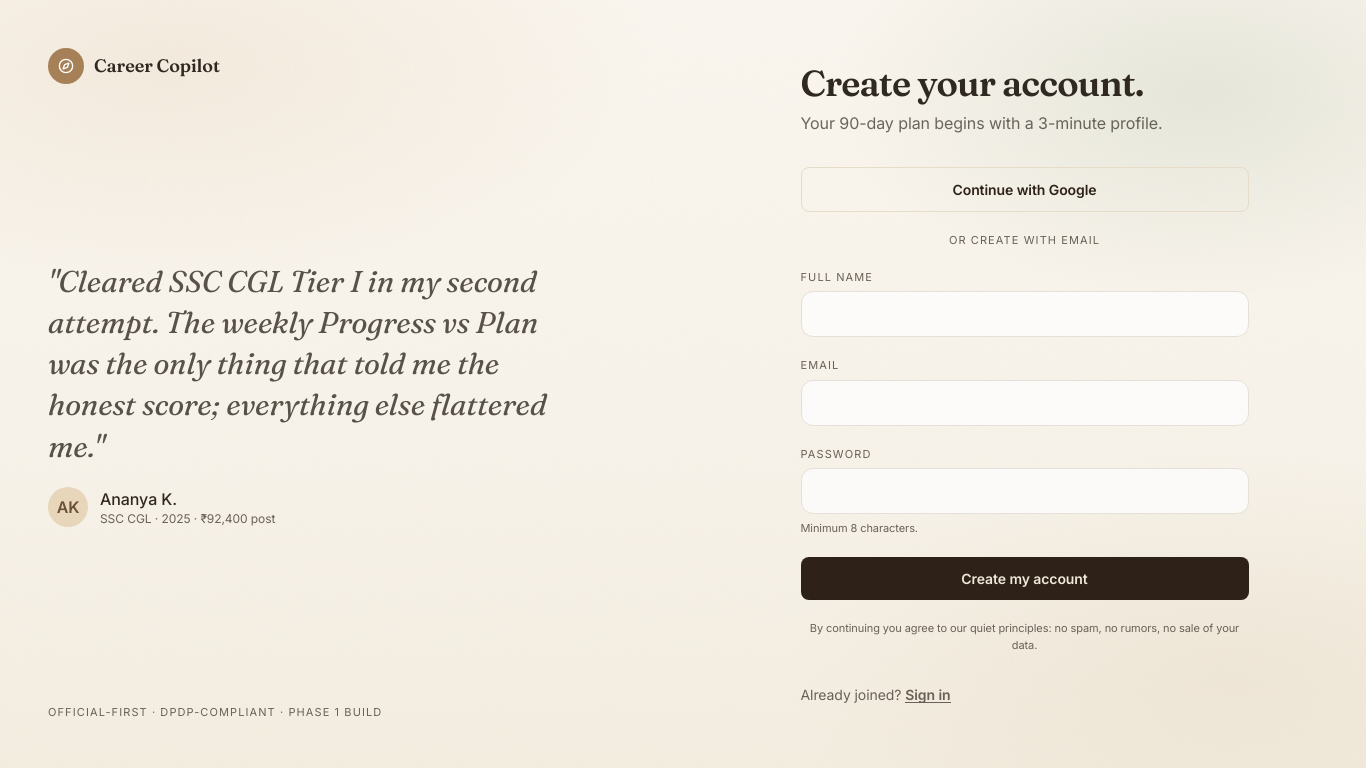
Scenario: shows check-email panel when register reports needsEmailConfirmation
Type "Alice" into the field with test id "signup-name". click: {"x": 1024, "y": 314}
box: [800,291,1248,337]
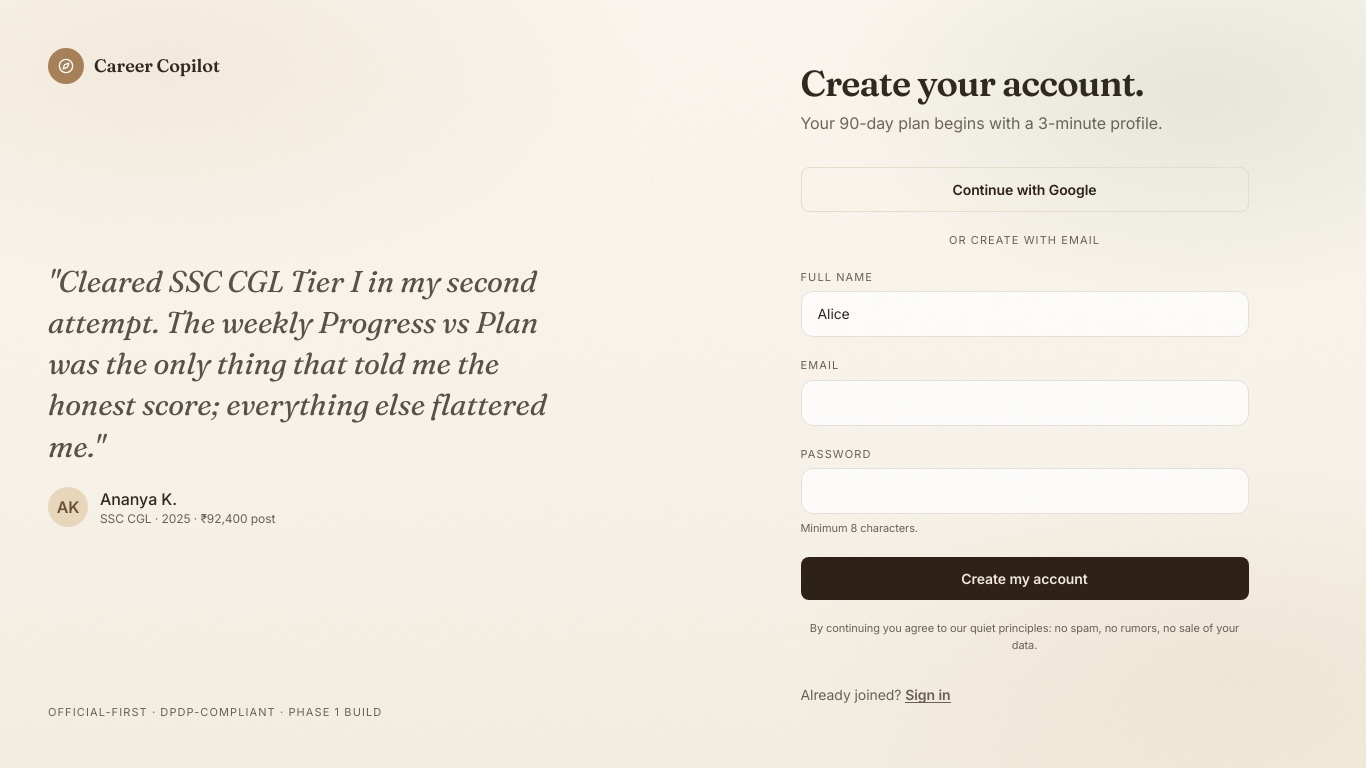
Type "a@x.com" into the field with test id "signup-email". click: {"x": 1024, "y": 403}
box: [800,380,1248,426]
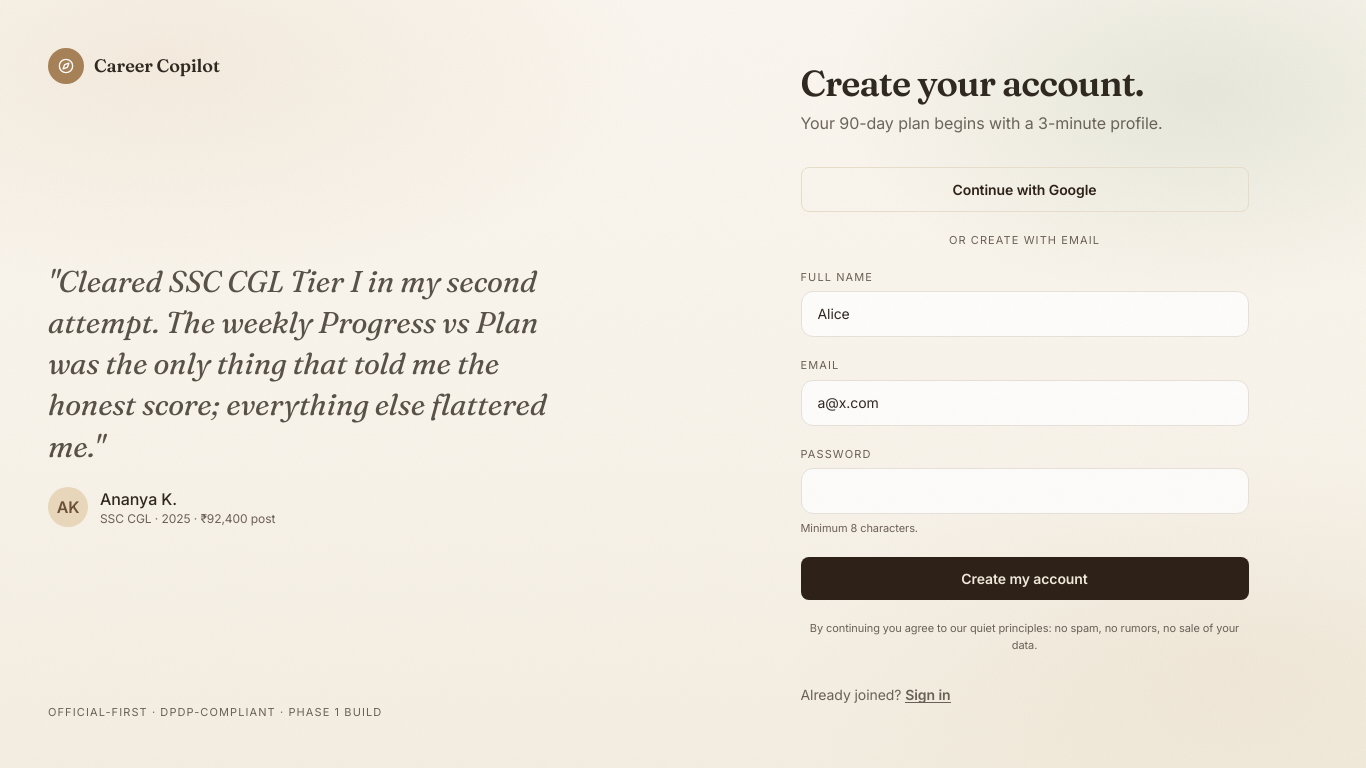
Type "pw12345" into the password field with test id "signup-password". click: {"x": 1024, "y": 491}
box: [800,468,1248,514]
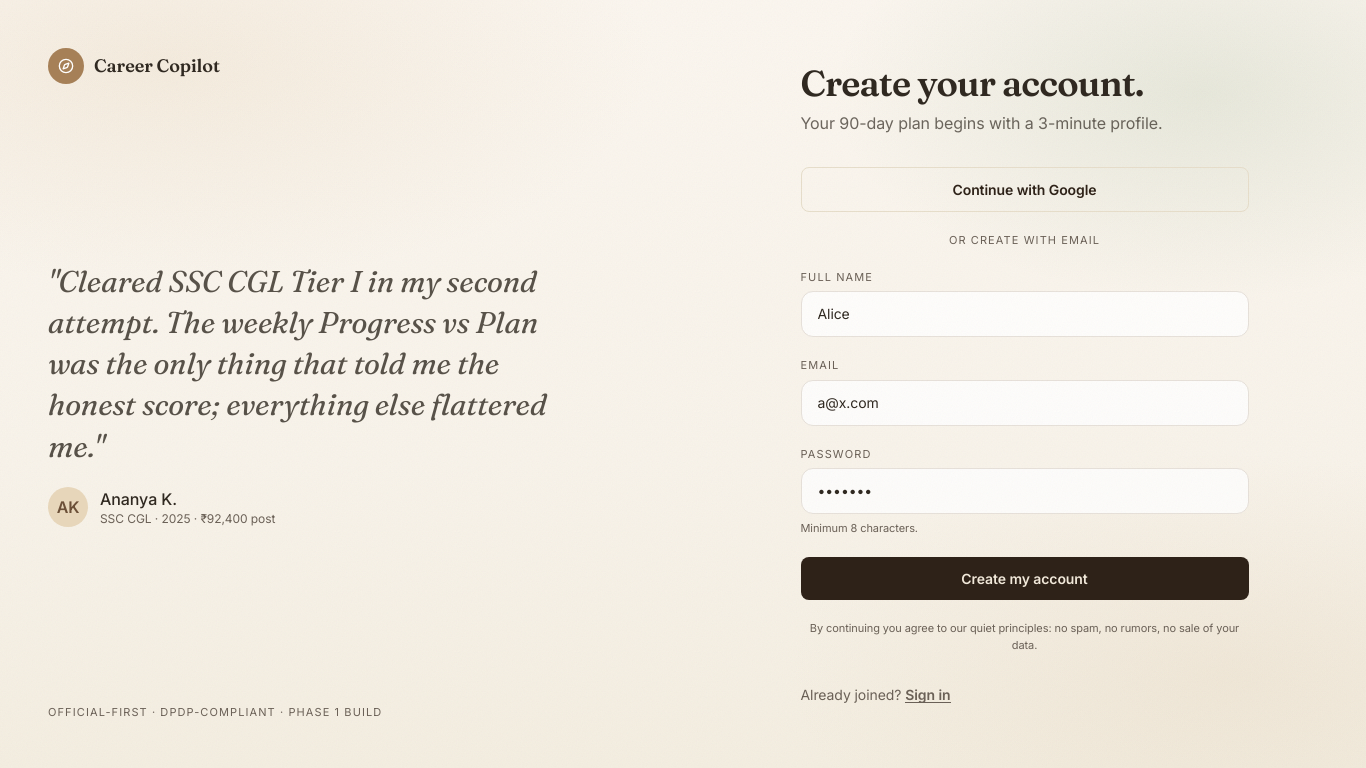
Click the button with test id "signup-submit". click: {"x": 1024, "y": 578}
box: [800,557,1248,600]
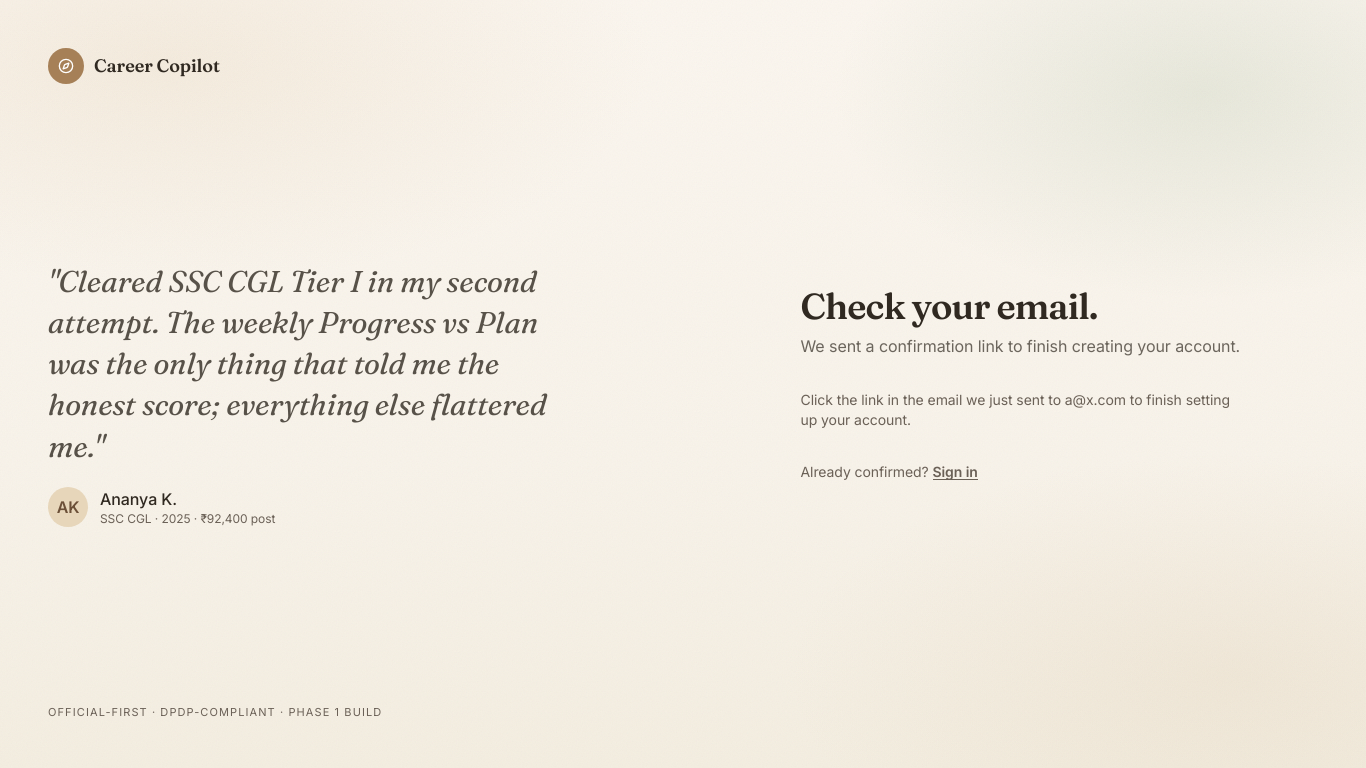
expect the text with test id "signup-check-email" is shown: met, box [800,390,1248,430]
